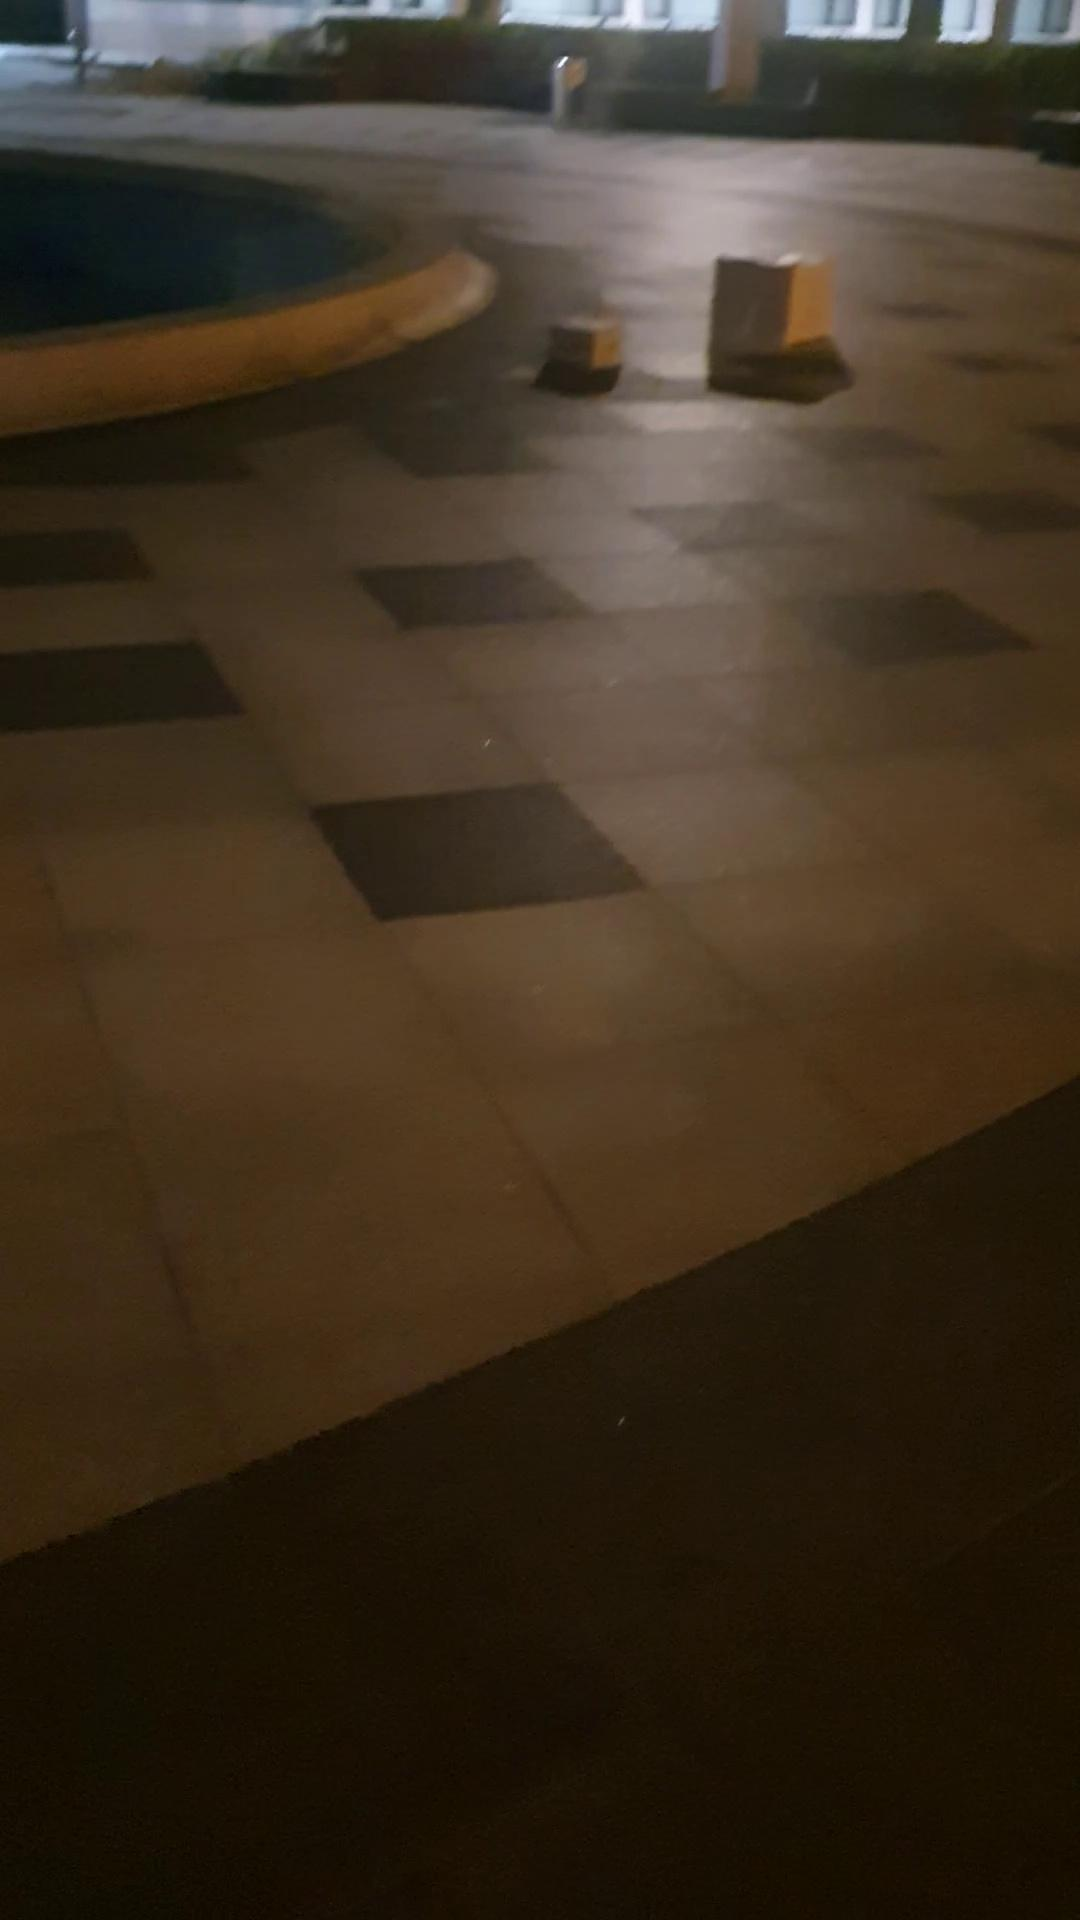Box: (713, 245, 839, 369), (538, 309, 630, 371)
